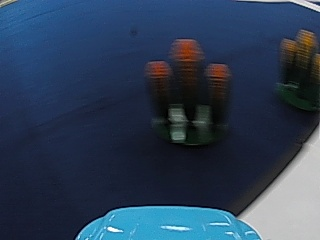corn: (145, 34, 233, 149), (278, 26, 318, 112)
